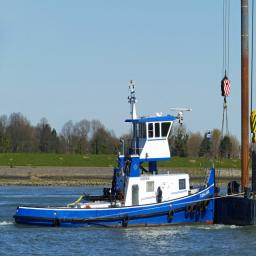tugboat: (12, 79, 217, 232)
